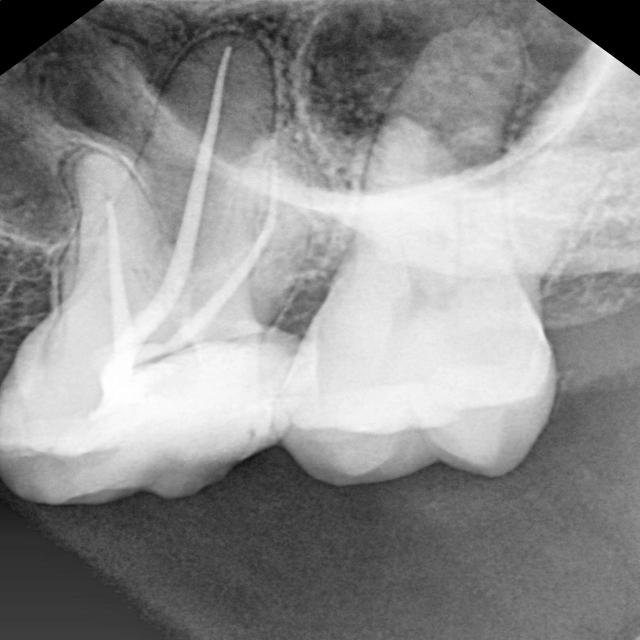Normal: (273, 55, 601, 536)
RCT: (0, 26, 335, 504)
